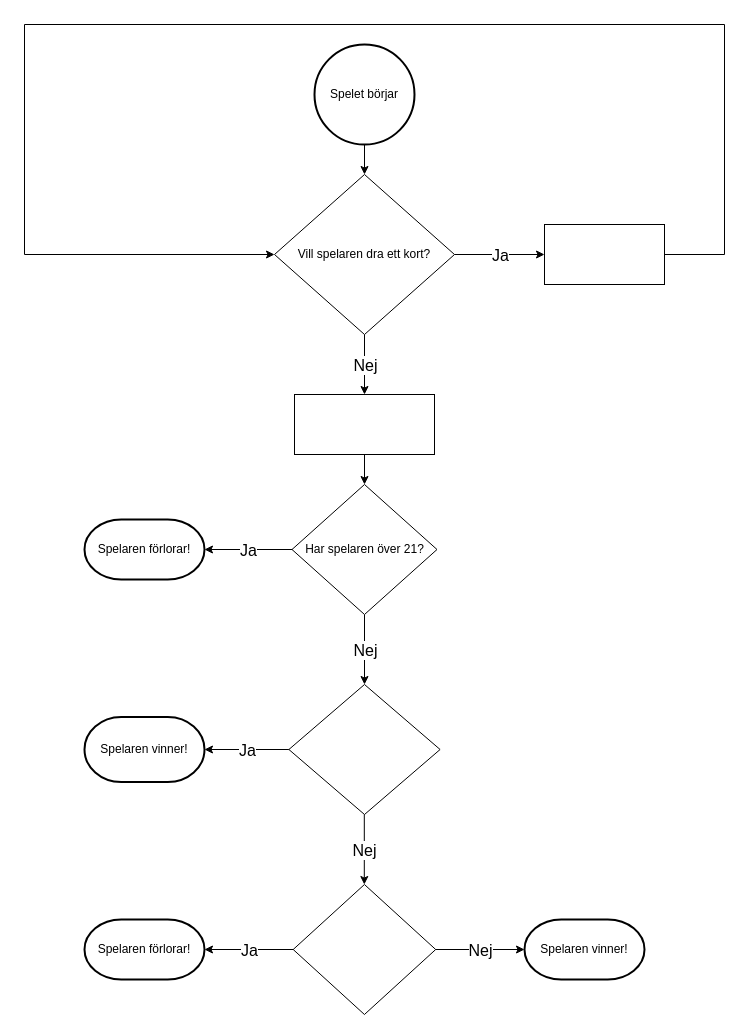
The diagram is 750 pixels wide and 1032 high, and some of its shapes have lost their labels. The centre of each missing label's shape, as x and y in pixels:
"Banken drar sina kort" goes at [364,424].
"Har banken mer än spelaren?" goes at [364,949].
"Har banken över 21?" goes at [364,749].
"Spelaren drar ett kort" goes at [604,254].
